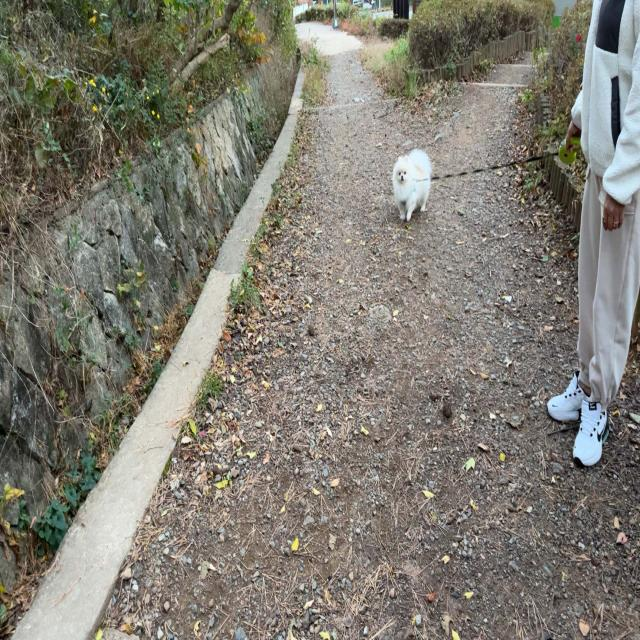Leashed_Dog: (394, 85, 610, 224)
